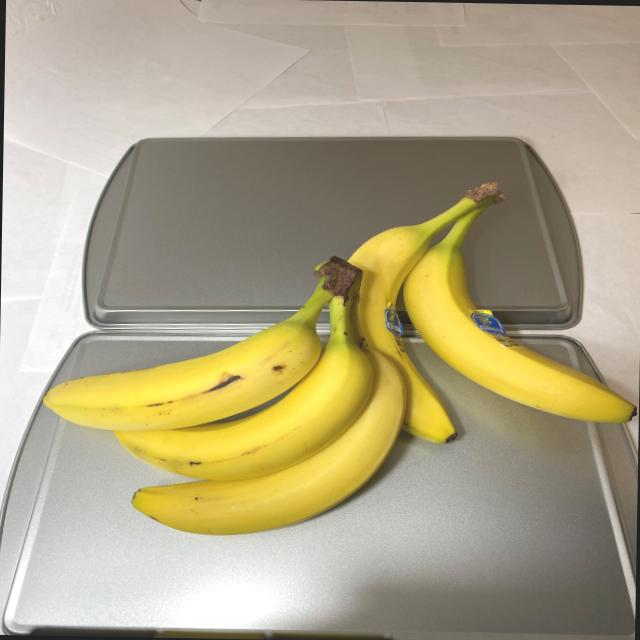banana: (40, 172, 638, 544)
